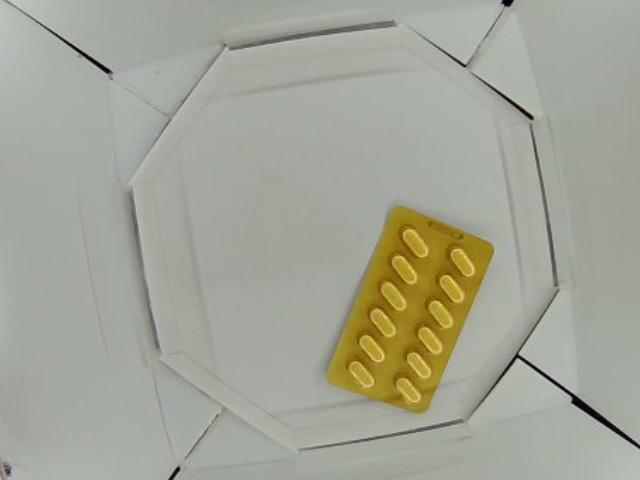Medicine: (324, 204, 493, 414)
